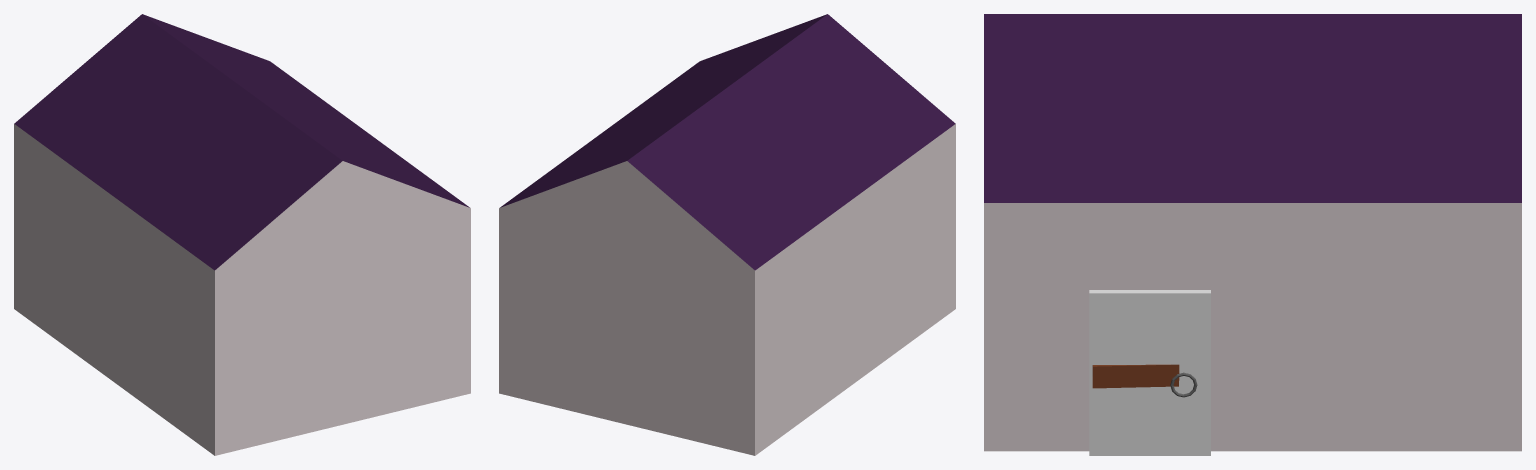
Rendered from house_bc.glb.
The picture shows the model from 3 angles, left to right: view 1: azimuth 30°, elevation 25°; view 2: azimuth 150°, elevation 25°; view 3: azimuth 270°, elevation 25°; orthographic projection. The views are drawn at different scales.
Visible parts, largest first — view 1: house_col; view 2: house_col; view 3: house_col, Cube-noimp, Cube.004.
Part boxes in pixels (bbox=[...]): house_col: bbox=[14, 14, 470, 455]; house_col: bbox=[499, 14, 955, 455]; house_col: bbox=[984, 14, 1521, 451]; Cube-noimp: bbox=[1089, 290, 1210, 455]; Cube.004: bbox=[1092, 364, 1179, 388].
Size of what is drawn, in the model's own units: 4.8 by 4.59 by 6.3.
